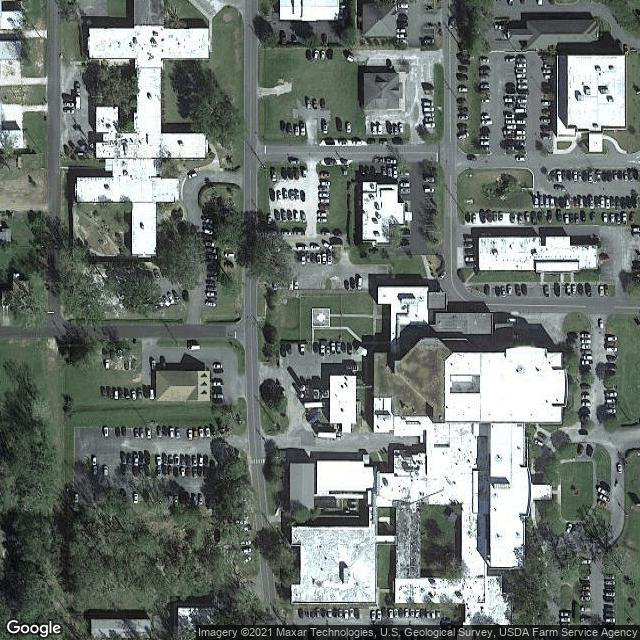Helipad: (310, 305, 332, 328)
